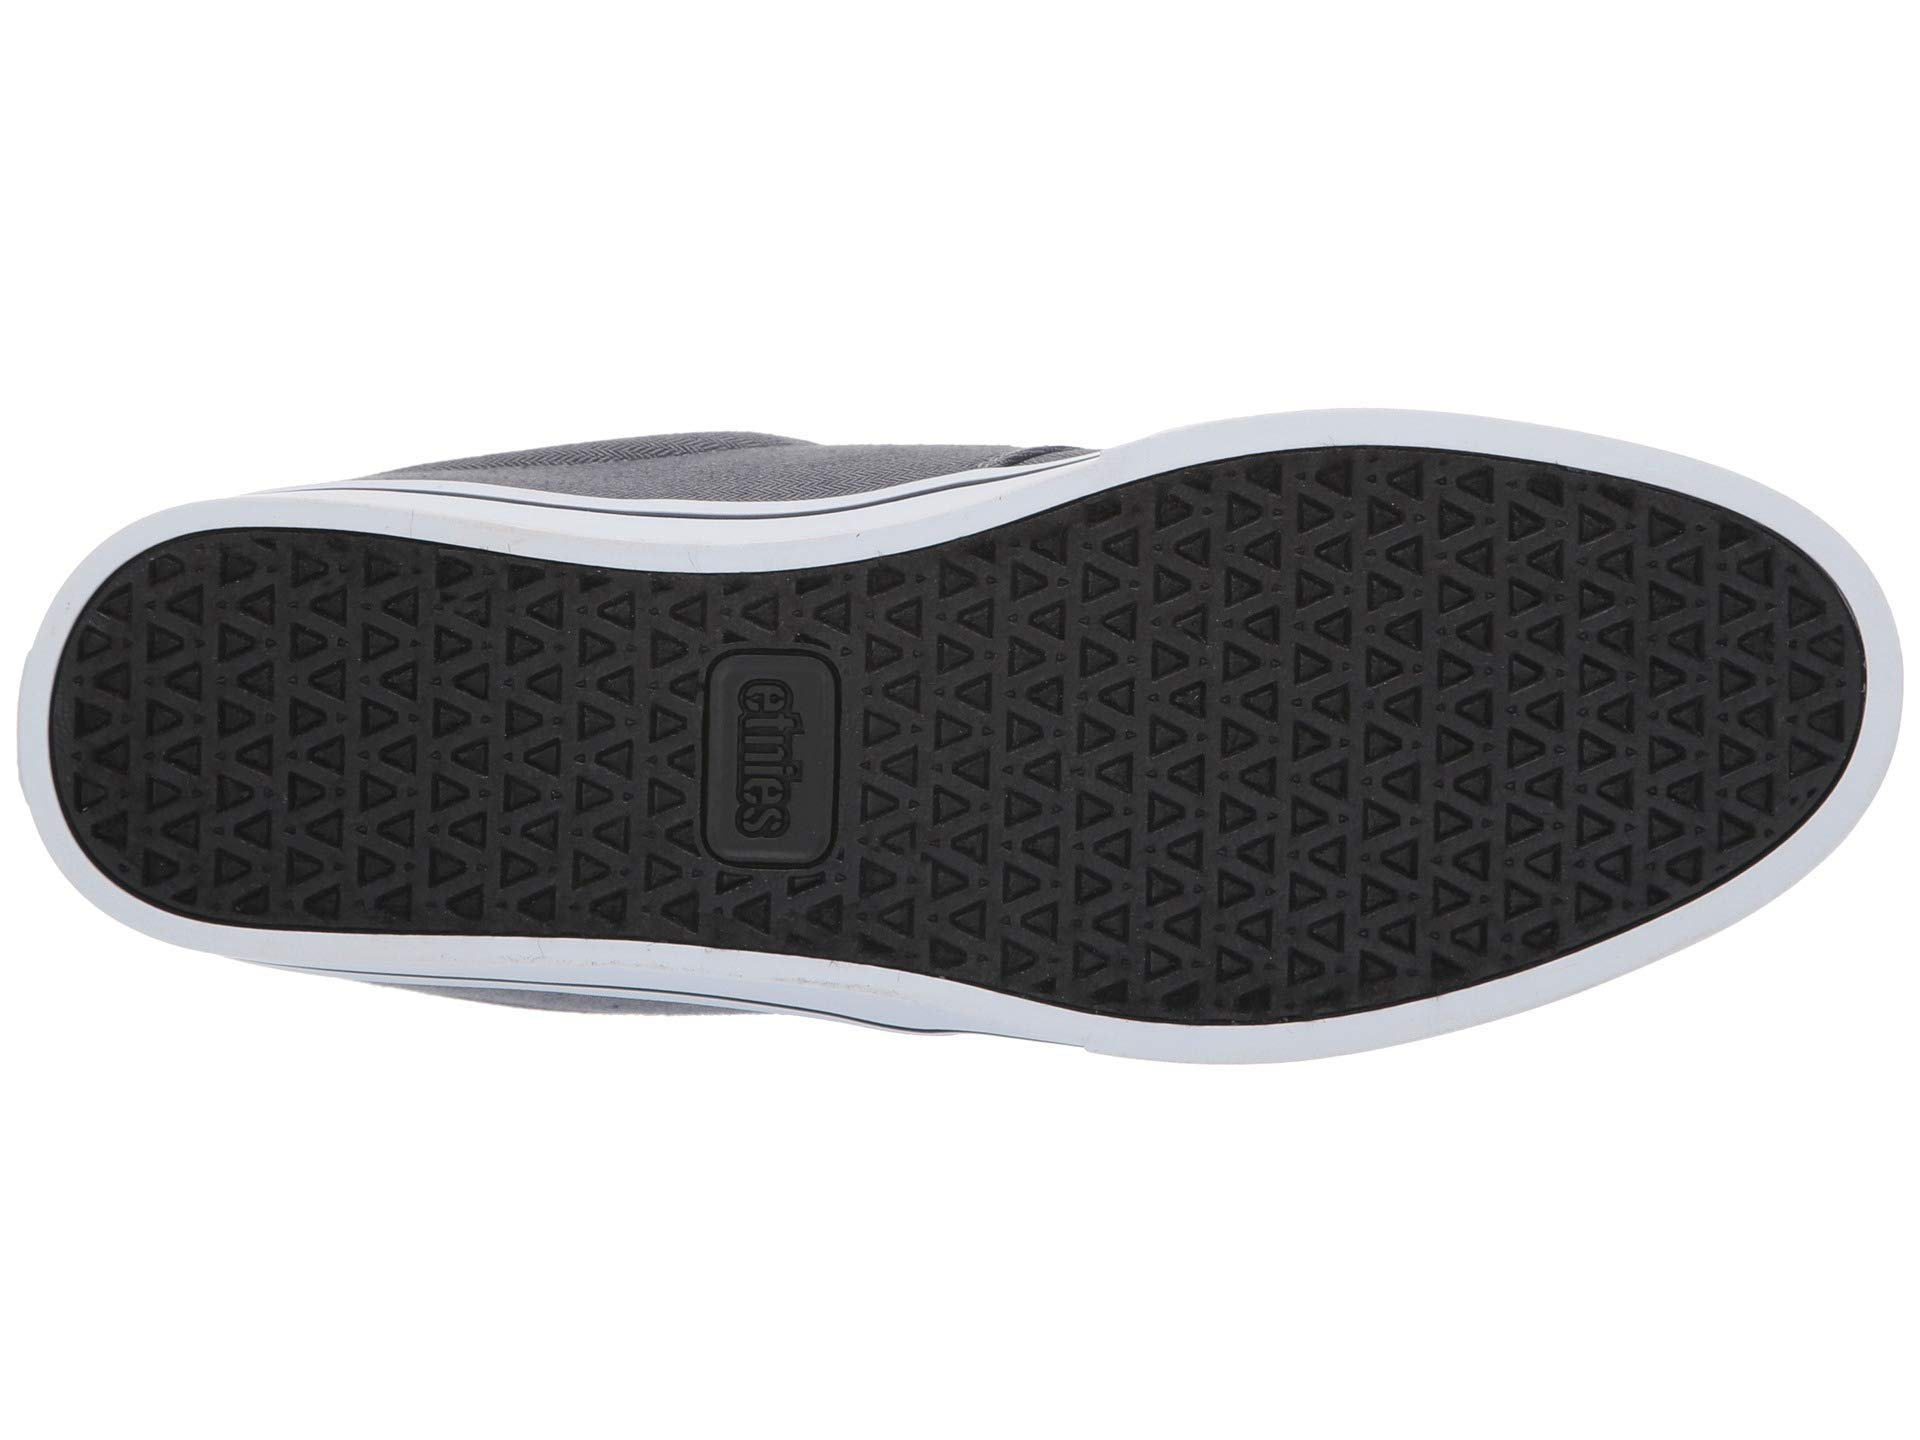quad: (700, 644, 841, 873)
text: (700, 644, 841, 873)
triangle: (968, 538, 1752, 852)
